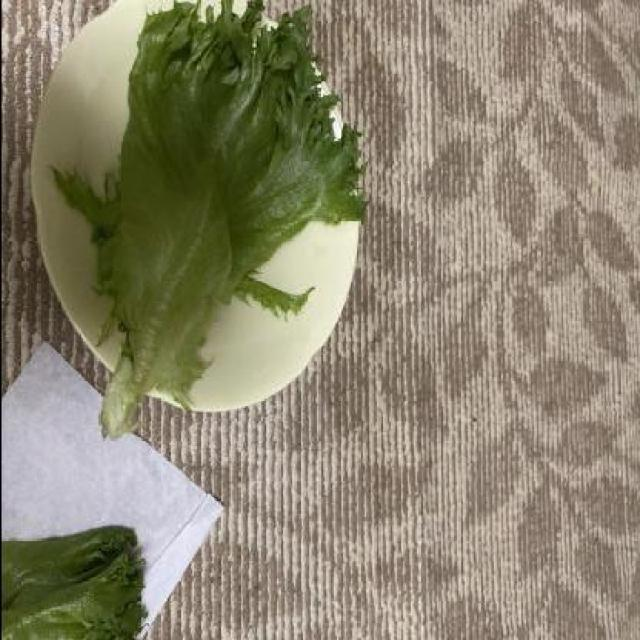Lettuce: (53, 0, 369, 439), (0, 512, 155, 639)
